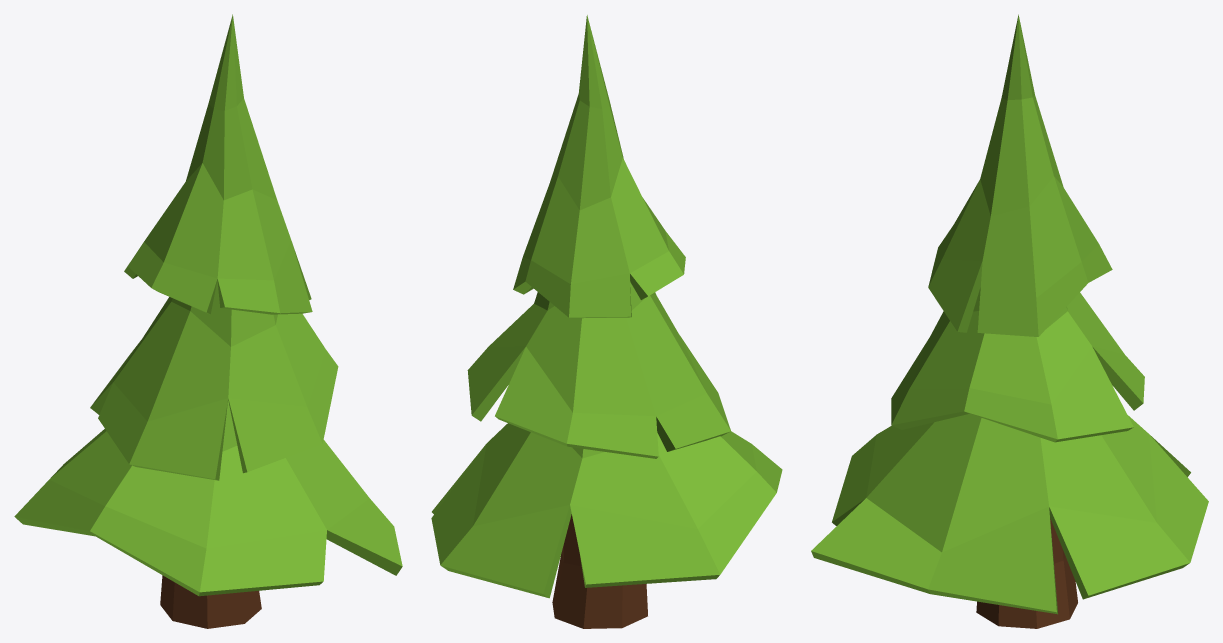
Rendered from uploads_files_4857495_Tree.fbx.
3 renders of one model, left to right at view 1: azimuth 30°, elevation 25°; view 2: azimuth 150°, elevation 25°; view 3: azimuth 270°, elevation 25°, orthographic. The views are drawn at different scales.
Visible parts, largest first — view 1: Circle.002; view 2: Circle.002; view 3: Circle.002.
Part boxes in pixels (left/top/right/bottom): Circle.002: left=14, top=14, right=402, bottom=628; Circle.002: left=431, top=15, right=782, bottom=628; Circle.002: left=811, top=14, right=1208, bottom=628.
Bounding box in the file's own units: 151 × 272 × 163.
